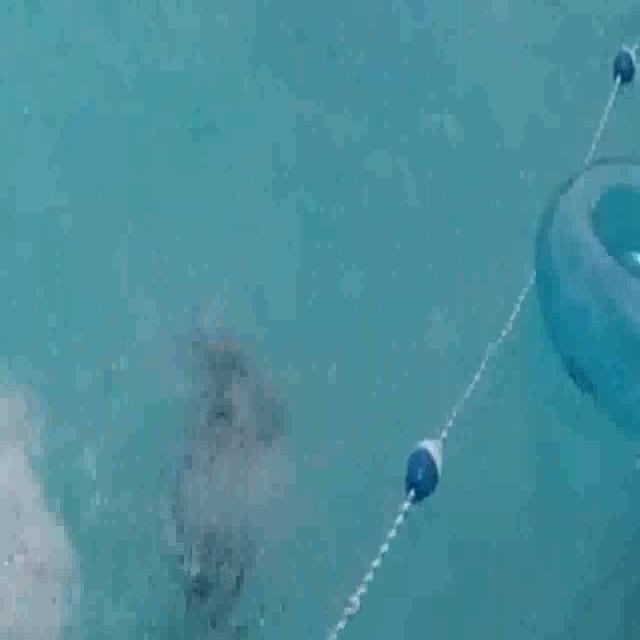drowning: (162, 353, 300, 634)
